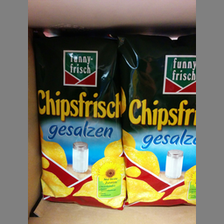chips: (29, 30, 126, 209), (121, 33, 197, 205)
